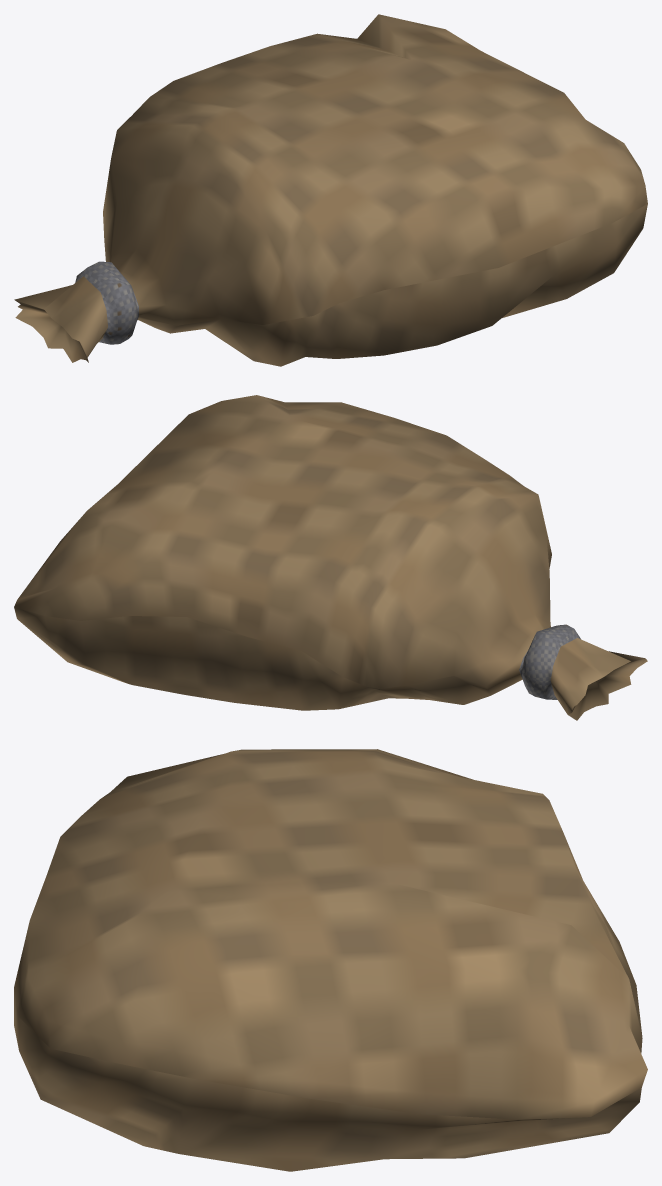
The model's file is sack3.fbx.
The picture shows the model from 3 angles, top to bottom: view 1: azimuth 30°, elevation 25°; view 2: azimuth 150°, elevation 25°; view 3: azimuth 270°, elevation 25°; orthographic projection. The views are drawn at different scales.
Parts seen in each view (by area): view 1: sack3; view 2: sack3; view 3: sack3.
Boxes of the visible parts, x1,y1,x2,y2 form: sack3: [14, 14, 647, 366]; sack3: [14, 395, 647, 720]; sack3: [14, 749, 647, 1171].
Size of the model in its own units: 2.51 by 0.8391 by 2.03.
